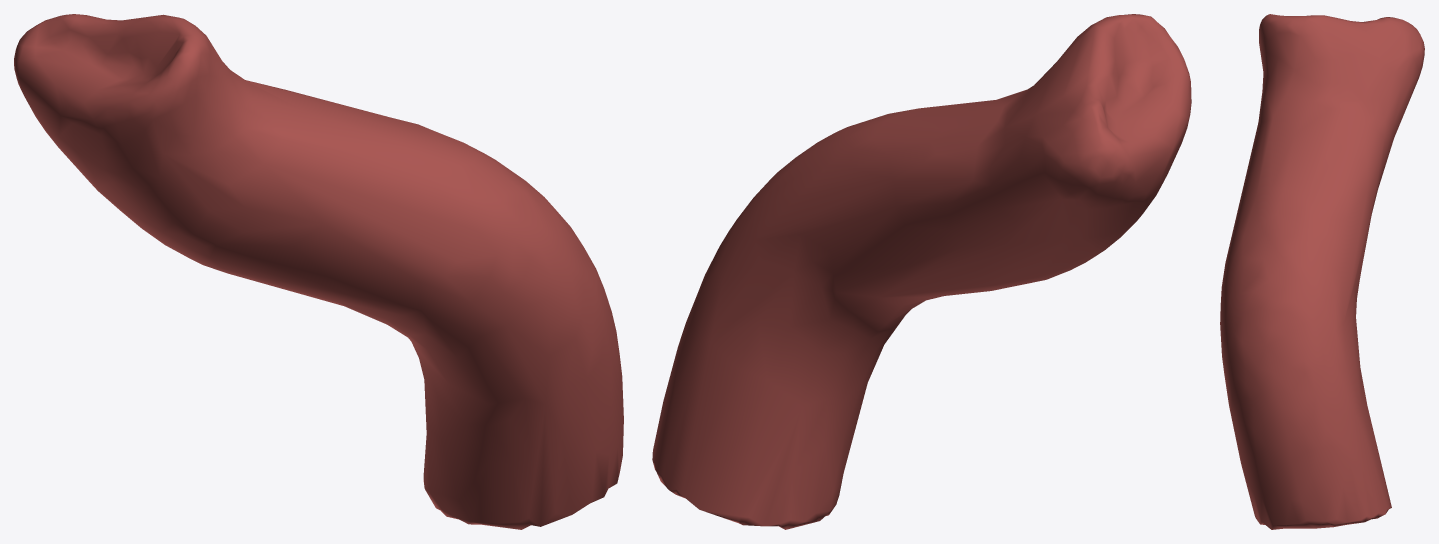
File: FMA3932nsn.glb
3 renders of one model, left to right at view 1: azimuth 30°, elevation 25°; view 2: azimuth 150°, elevation 25°; view 3: azimuth 270°, elevation 25°, orthographic. The views are drawn at different scales.
Visible parts, largest first — view 1: FMA3932nsn; view 2: FMA3932nsn; view 3: FMA3932nsn.
Part boxes in pixels (x1,y1,x2,y2): FMA3932nsn: [14, 14, 623, 529]; FMA3932nsn: [652, 14, 1191, 529]; FMA3932nsn: [1220, 14, 1424, 529].
Bounding box in the file's own units: 0.0376 × 0.0381 × 0.0181.
